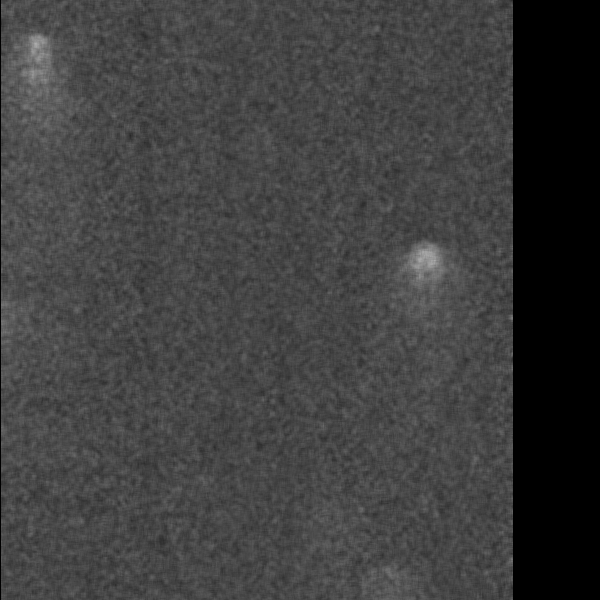spark: (272, 271, 304, 308)
